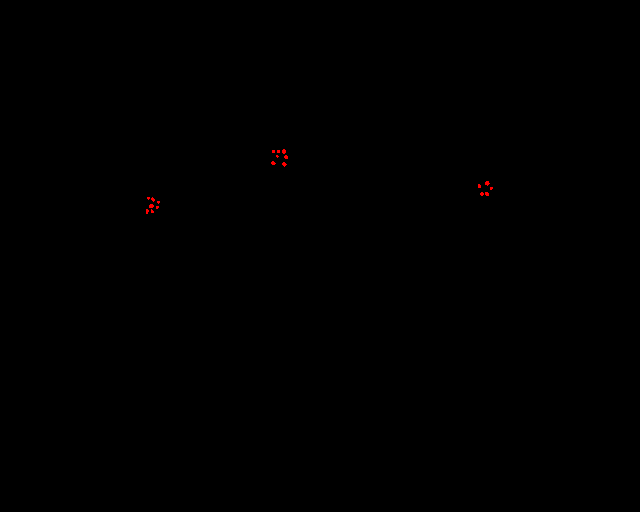Target: (282, 162, 287, 167), (485, 181, 490, 186), (282, 149, 286, 154), (271, 161, 276, 165), (151, 197, 155, 202), (149, 204, 154, 208), (284, 155, 288, 159), (480, 192, 484, 196), (485, 192, 489, 196), (146, 209, 149, 214), (478, 184, 481, 188), (151, 209, 154, 213), (272, 150, 275, 153), (277, 150, 280, 153), (276, 155, 279, 158), (490, 187, 493, 190), (147, 197, 150, 200), (157, 201, 160, 204), (156, 206, 159, 209)
